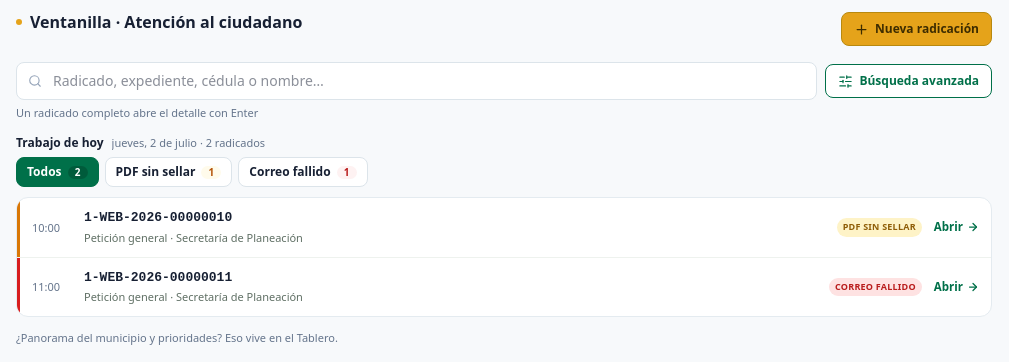
Test case: Mostrador — Trabajo de hoy › el chip "Correo fallido" filtra las filas
The image size is (1009, 362).
Click the button with aria-label "Filtrar trabajo de hoy: Correo fallido": click(303, 172) [238,157,368,187]
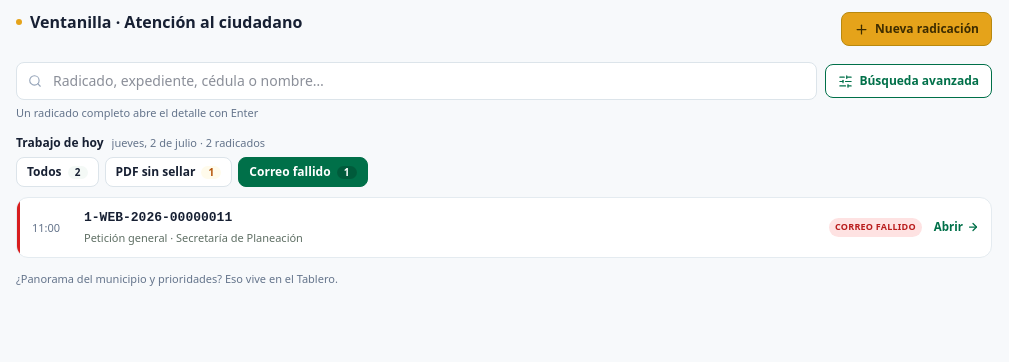
Expected: the text "1-WEB-2026-00000011" is shown, [84,210,232,225]
Expected: the button "1-WEB-2026-00000010" is gone
